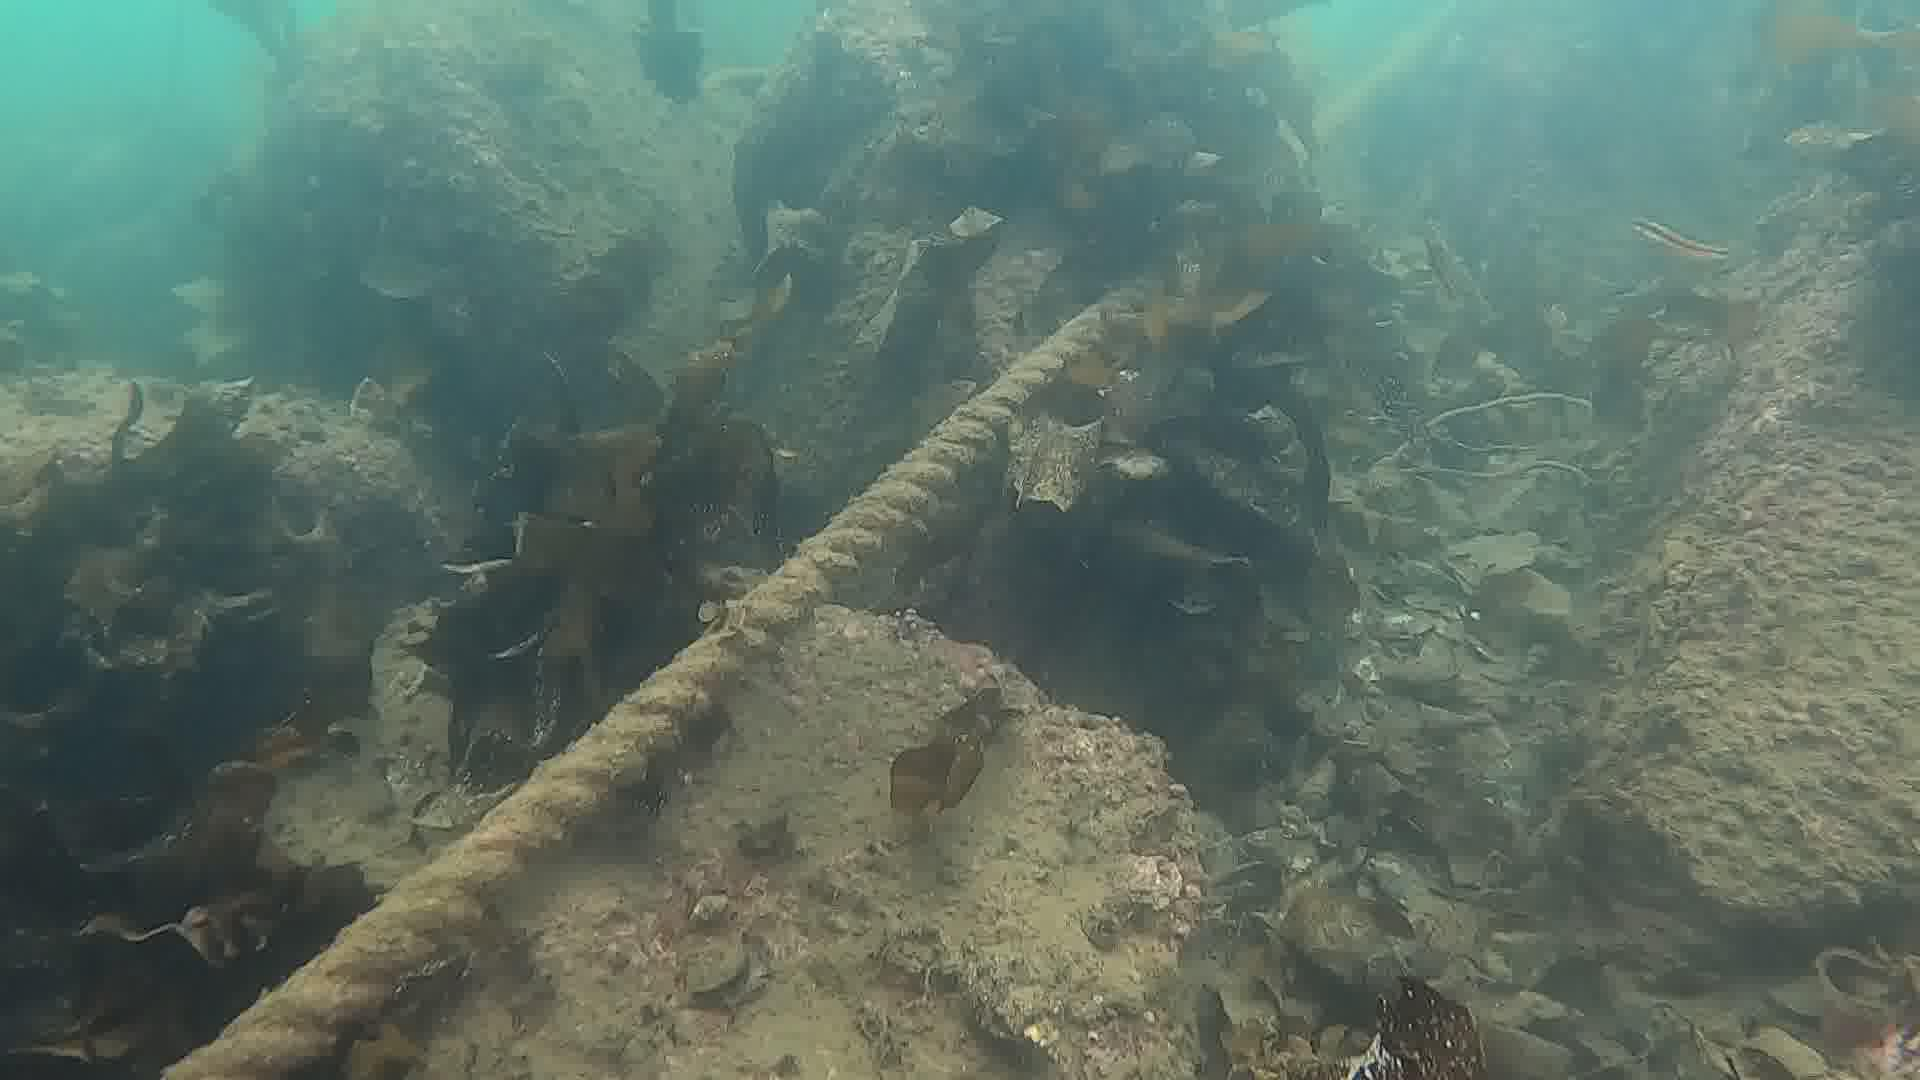rope: (154, 5, 1466, 1080)
